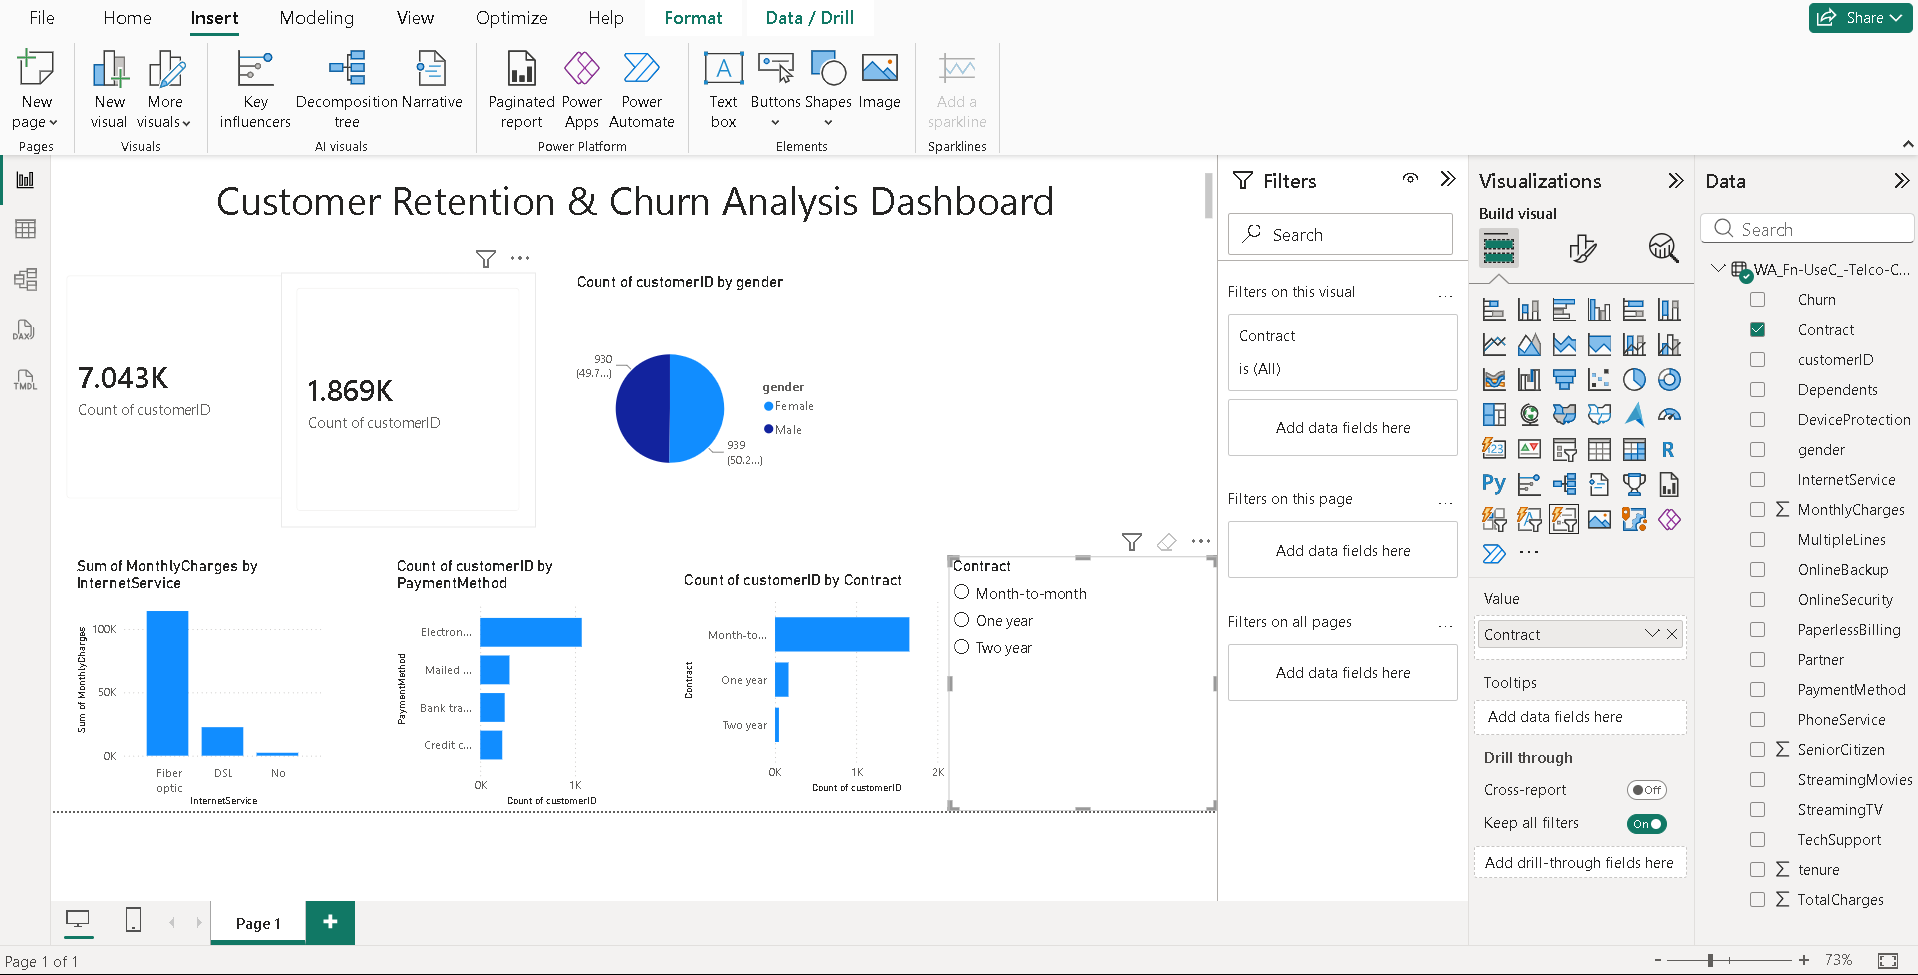

Layout of this report page (visuals, bound fields, positions):
{"tool":"powerbi","page":{"name":"Page 1","canvas":[1280,720],"ordinal":0},"visuals":[{"type":"cardVisual","fields":{"Data":["CountNonNull(WA_Fn-UseC_-Telco-Customer-Churn.customerID)"]},"box":[0,115.3,279.9,279.9],"z":0},{"type":"cardVisual","fields":{"Data":["CountNonNull(WA_Fn-UseC_-Telco-Customer-Churn.customerID)"]},"box":[252.5,129,279.9,279.9],"z":2},{"type":"pieChart","fields":{"Category":["WA_Fn-UseC_-Telco-Customer-Churn.gender"],"Y":["CountNonNull(WA_Fn-UseC_-Telco-Customer-Churn.customerID)"]},"box":[572.2,129,279.9,279.9],"z":3},{"type":"clusteredBarChart","fields":{"Category":["WA_Fn-UseC_-Telco-Customer-Churn.Contract"],"Y":["CountNonNull(WA_Fn-UseC_-Telco-Customer-Churn.customerID)"]},"box":[690.2,455.6,295,249.7],"z":4},{"type":"clusteredColumnChart","fields":{"Category":["WA_Fn-UseC_-Telco-Customer-Churn.InternetService"],"Y":["Sum(WA_Fn-UseC_-Telco-Customer-Churn.MonthlyCharges)"]},"box":[23.3,440.5,279.9,279.9],"z":5},{"type":"barChart","fields":{"Category":["WA_Fn-UseC_-Telco-Customer-Churn.PaymentMethod"],"Y":["CountNonNull(WA_Fn-UseC_-Telco-Customer-Churn.customerID)"]},"box":[374.6,440.5,264.8,279.9],"z":6},{"type":"listSlicer","fields":{"Values":["WA_Fn-UseC_-Telco-Customer-Churn.Contract"]},"box":[985.3,440.5,295,279.9],"z":7},{"type":"textbox","box":[11,15.1,1269.3,63.1],"z":8}]}

Visuals, with their boxes on the page's 1280x720 design canvas (x1, y1, x2, y2). These are canvas units, not pixel positions in the 1918x975 screenshot, which may show the page scaled, cropped or inside an application window:
cardVisual - CountNonNull(WA_Fn-UseC_-Telco-Customer-Churn.customerID): l=0, t=115, r=280, b=395
cardVisual - CountNonNull(WA_Fn-UseC_-Telco-Customer-Churn.customerID): l=252, t=129, r=532, b=409
pieChart - WA_Fn-UseC_-Telco-Customer-Churn.gender x CountNonNull(WA_Fn-UseC_-Telco-Customer-Churn.customerID): l=572, t=129, r=852, b=409
clusteredBarChart - WA_Fn-UseC_-Telco-Customer-Churn.Contract x CountNonNull(WA_Fn-UseC_-Telco-Customer-Churn.customerID): l=690, t=456, r=985, b=705
clusteredColumnChart - WA_Fn-UseC_-Telco-Customer-Churn.InternetService x Sum(WA_Fn-UseC_-Telco-Customer-Churn.MonthlyCharges): l=23, t=440, r=303, b=720
barChart - WA_Fn-UseC_-Telco-Customer-Churn.PaymentMethod x CountNonNull(WA_Fn-UseC_-Telco-Customer-Churn.customerID): l=375, t=440, r=639, b=720
listSlicer - WA_Fn-UseC_-Telco-Customer-Churn.Contract: l=985, t=440, r=1280, b=720
textbox: l=11, t=15, r=1280, b=78
